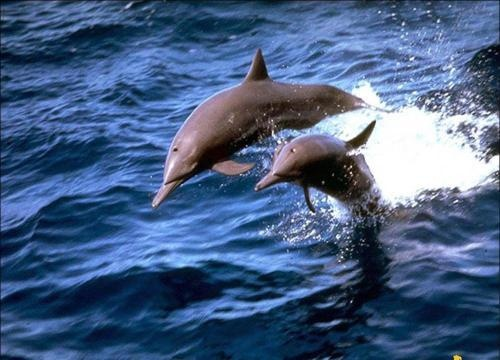fish: (149, 47, 399, 209), (245, 120, 427, 217)
